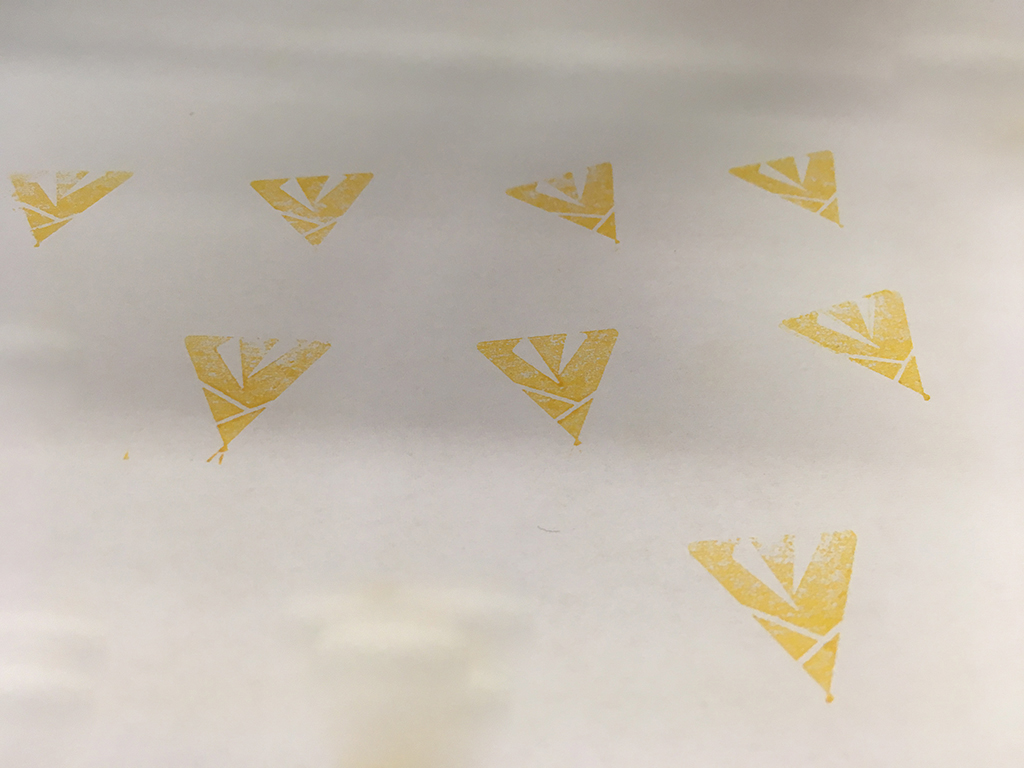tent: (666, 529, 871, 712), (167, 325, 341, 474), (462, 321, 628, 459), (766, 279, 936, 410), (1, 158, 138, 259), (487, 154, 626, 252), (246, 166, 386, 259), (722, 139, 847, 238)
